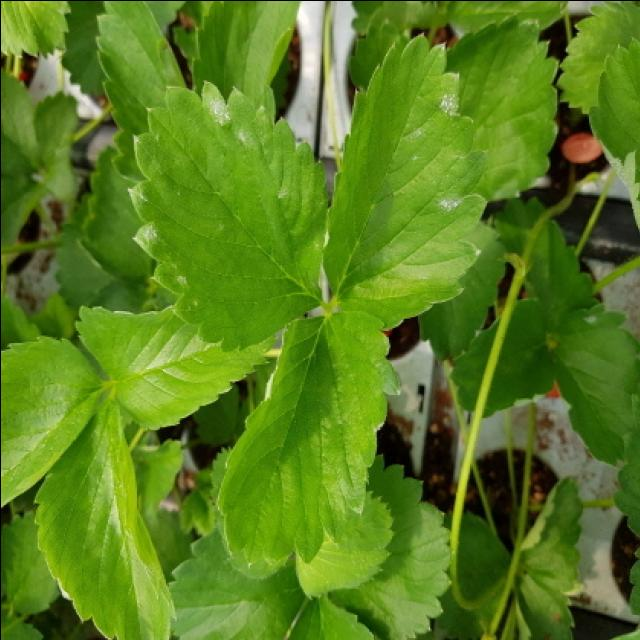Powdery Mildew Leaf: (125, 78, 330, 352), (319, 32, 490, 331), (214, 306, 403, 569), (31, 398, 178, 640)
